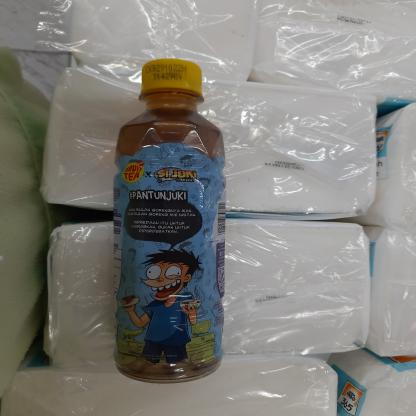bottle: (108, 57, 229, 387)
